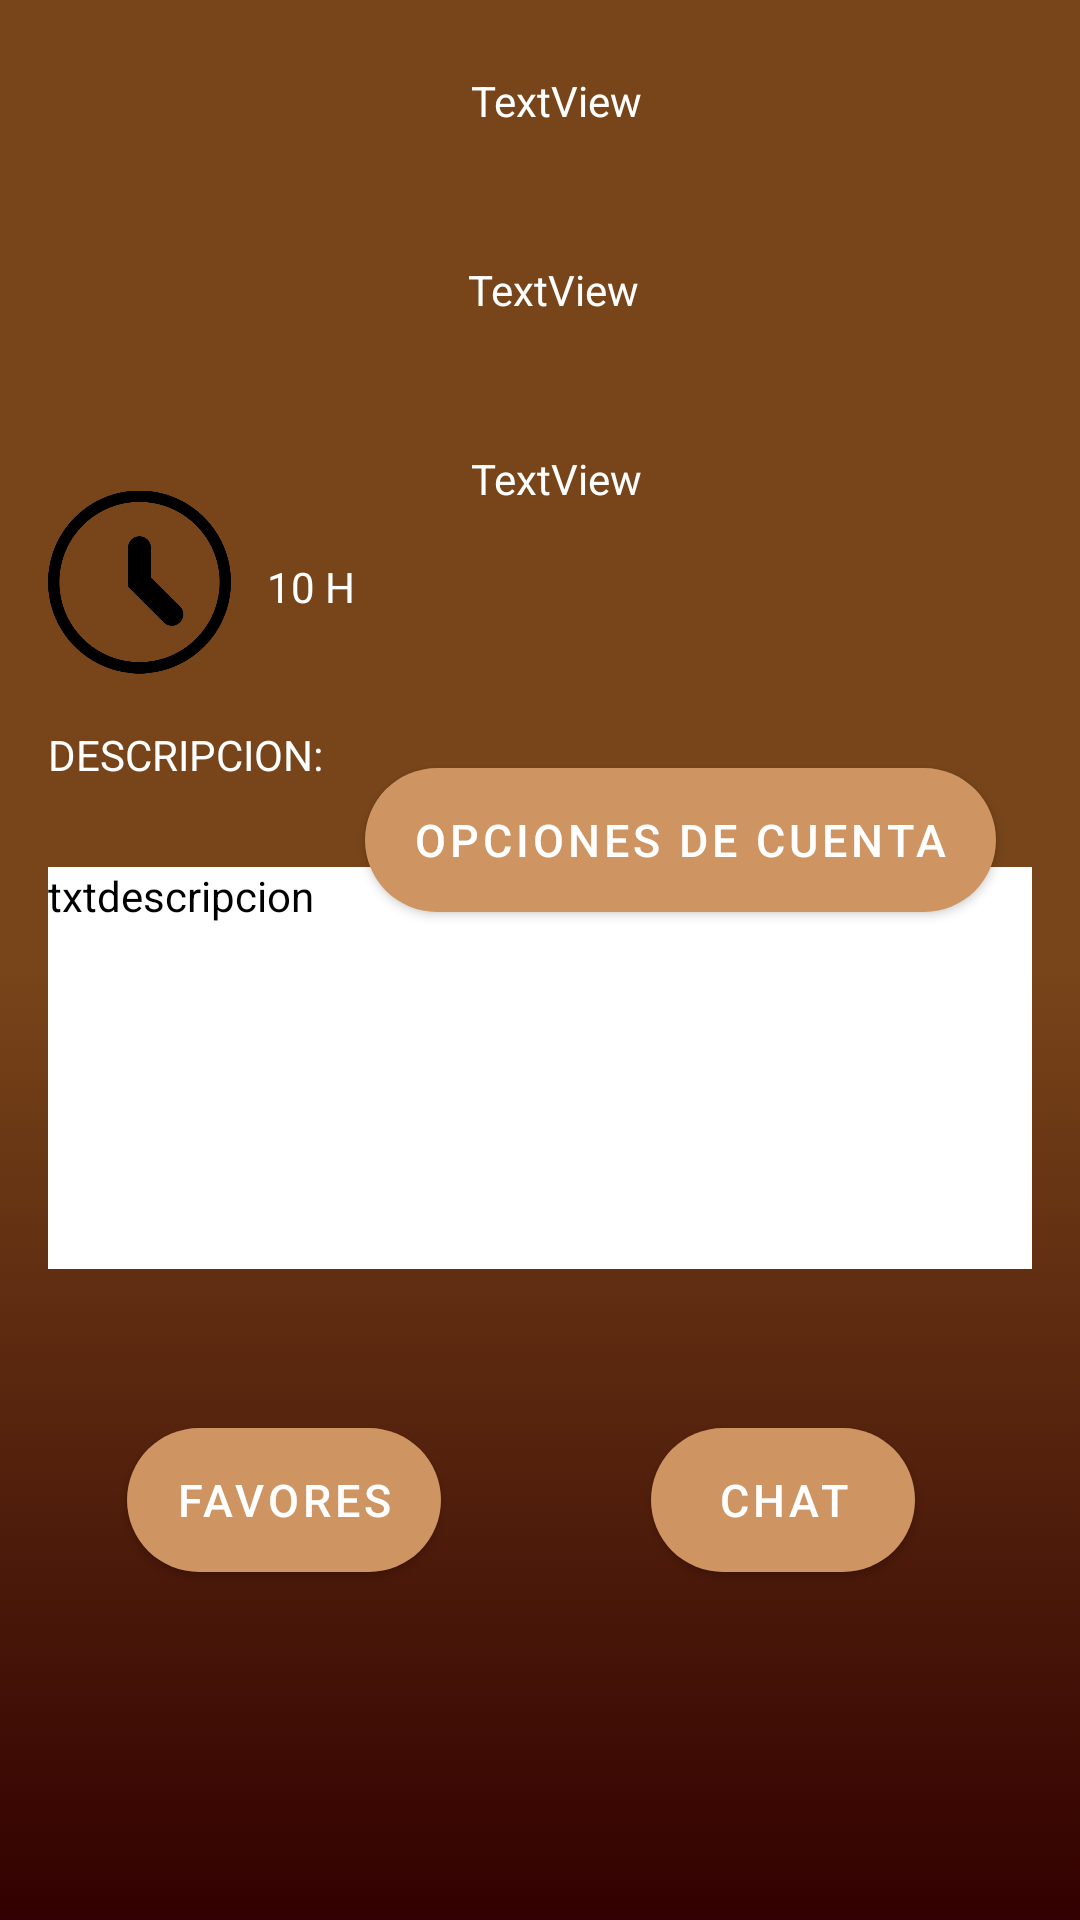

Point at icon controls on the screen. Image size 1080px×1920px, points as (x=x, y=y).
relog: (x=139, y=582)
